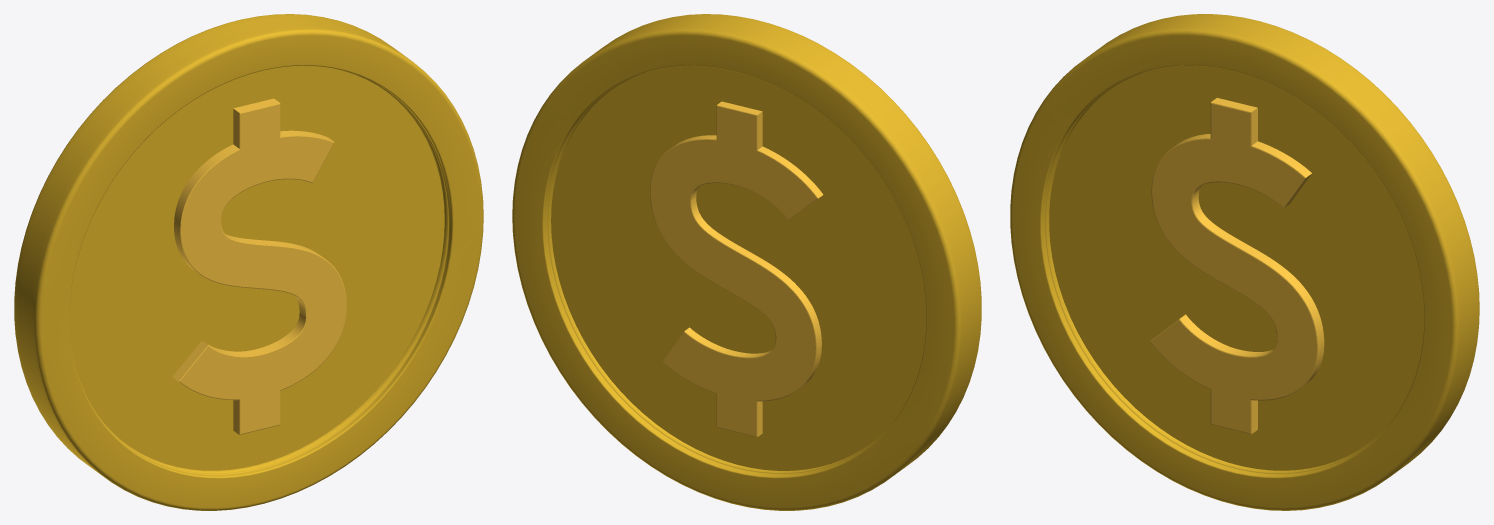
Rendered from USD.glb.
3 renders of one model, left to right at view 1: azimuth 30°, elevation 25°; view 2: azimuth 150°, elevation 25°; view 3: azimuth 330°, elevation 25°, orthographic.
Visible parts, largest first — view 1: Coin.003, Curve.012; view 2: Coin.003, Curve.012; view 3: Coin.003, Curve.012.
Boxes of the visible parts, left/top/right/bottom form: Coin.003: left=14, top=14, right=483, bottom=510; Curve.012: left=172, top=98, right=346, bottom=434; Coin.003: left=512, top=14, right=981, bottom=510; Curve.012: left=650, top=101, right=823, bottom=437; Coin.003: left=1010, top=14, right=1479, bottom=510; Curve.012: left=1150, top=98, right=1324, bottom=434.
Bounding box in the file's own units: 25.9 × 25.91 × 2.51.
